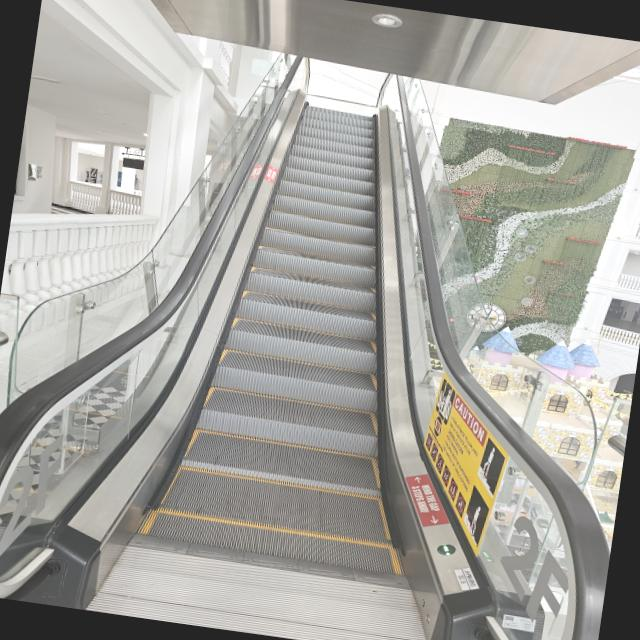escalator: (85, 75, 508, 640)
